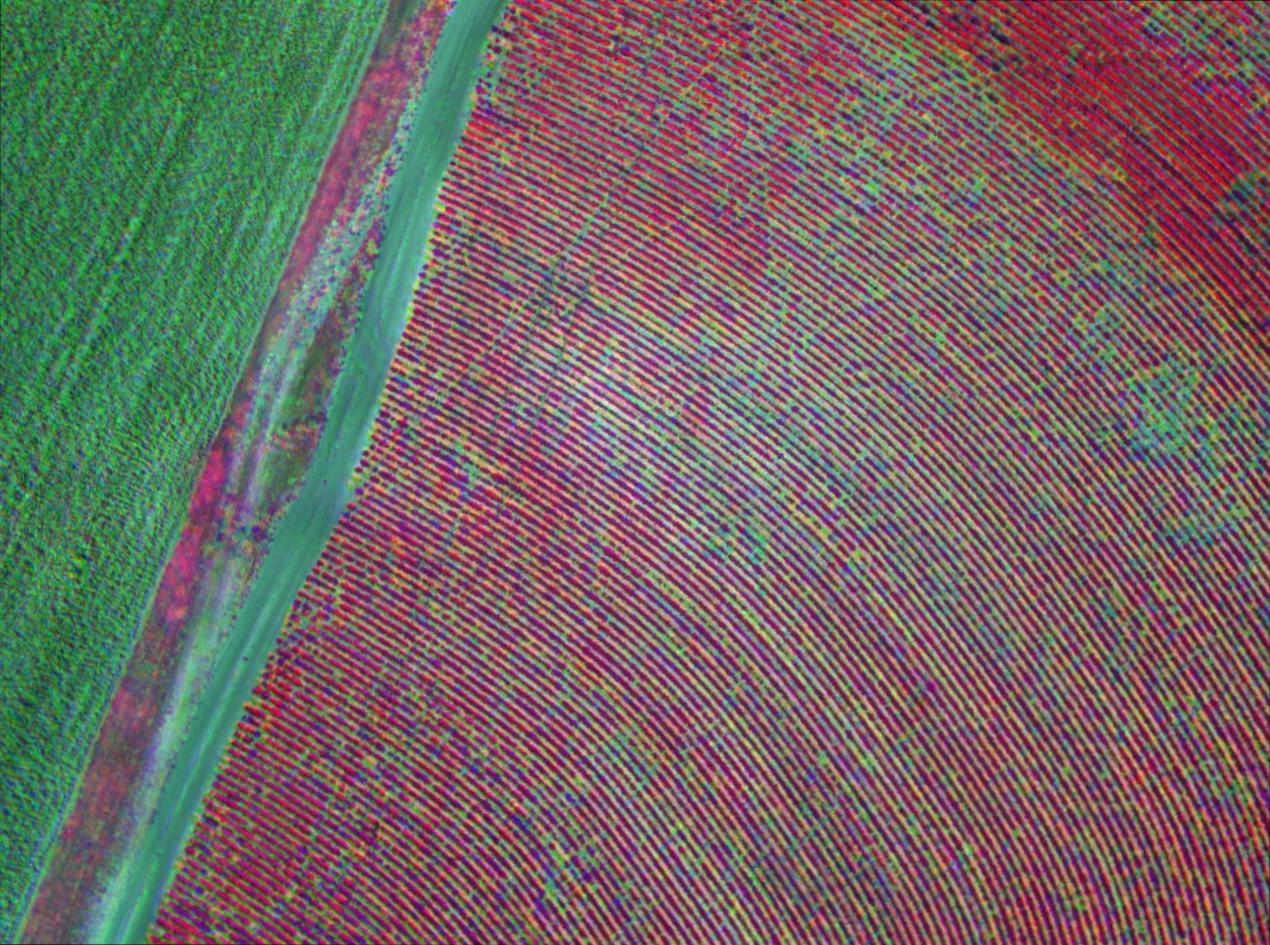dc: (506, 274, 510, 278), (413, 422, 417, 426), (965, 847, 969, 851), (471, 468, 474, 472), (731, 692, 734, 696), (1078, 906, 1082, 909)
